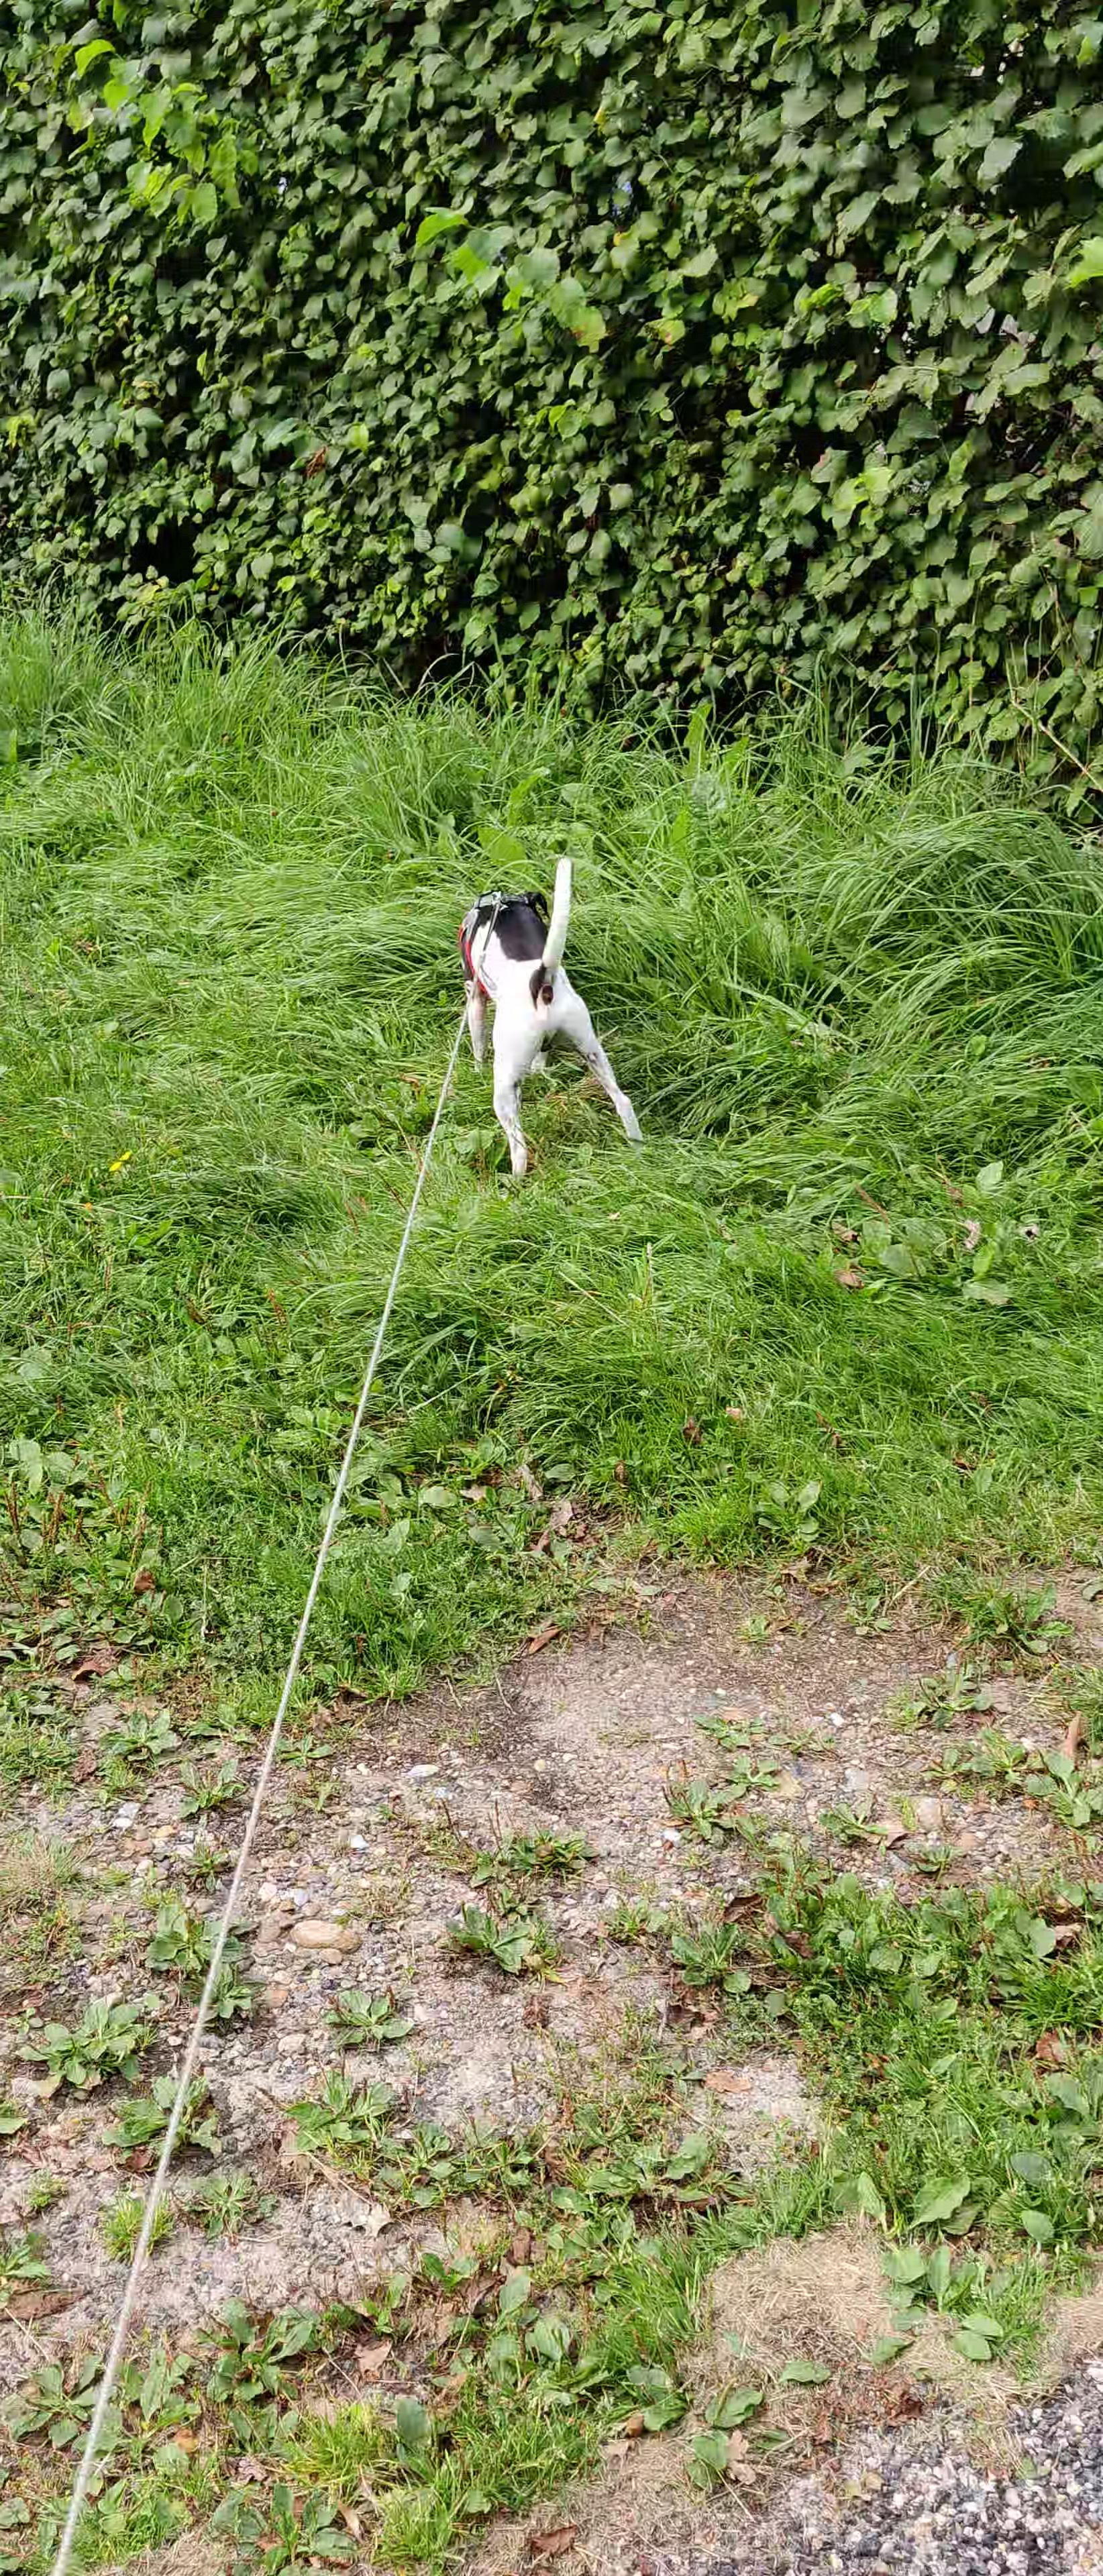Dog: (442, 854, 649, 1183)
